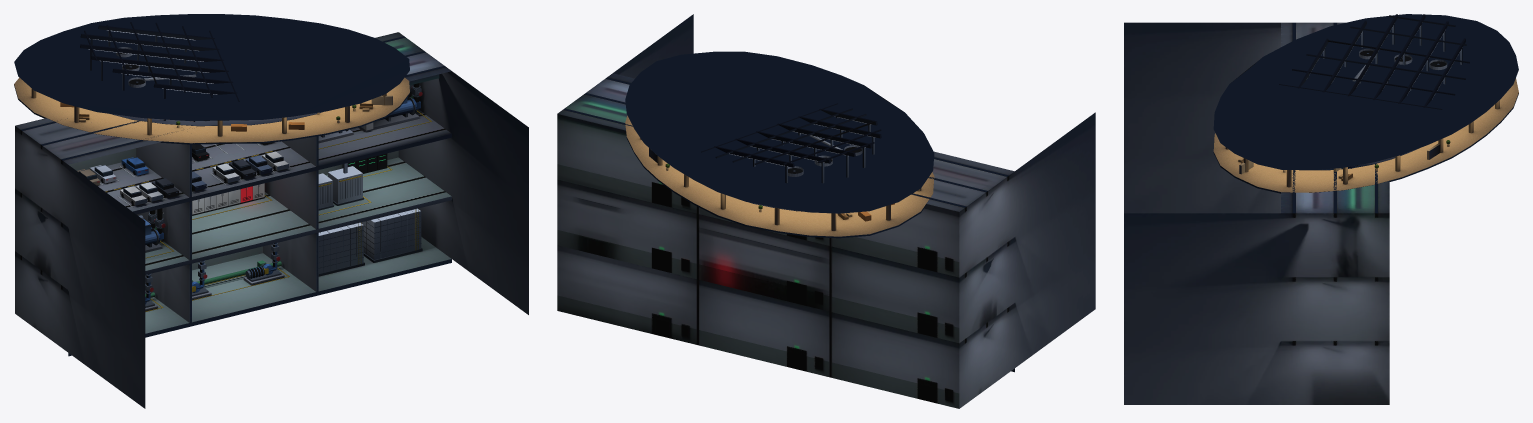
Rendered from tower_N.glb.
3 renders of one model, left to right at view 1: azimuth 30°, elevation 25°; view 2: azimuth 150°, elevation 25°; view 3: azimuth 270°, elevation 25°, orthographic. The views are drawn at different scales.
Visible parts, largest first — view 1: basement, lobby_v, basement_v, lobby, roof_v, retail_v, roof; view 2: basement, lobby_v, lobby, basement_v, roof_v, retail_v; view 3: basement, lobby_v, lobby, roof_v, retail_v, basement_v.
Boxes of the visible parts, x1,y1,x2,y2 form: basement: [15, 32, 528, 408]; lobby_v: [14, 14, 409, 144]; basement_v: [20, 36, 451, 356]; lobby: [14, 77, 409, 143]; roof_v: [80, 22, 322, 126]; retail_v: [15, 24, 392, 131]; roof: [111, 112, 321, 125]; basement: [557, 14, 1095, 408]; lobby_v: [625, 51, 934, 238]; lobby: [625, 115, 934, 236]; basement_v: [563, 77, 1014, 403]; roof_v: [701, 103, 881, 211]; retail_v: [649, 86, 913, 221]; basement: [1124, 22, 1389, 404]; lobby_v: [1213, 14, 1518, 193]; lobby: [1213, 78, 1518, 192]; roof_v: [1279, 14, 1469, 170]; retail_v: [1232, 14, 1517, 174]; basement_v: [1292, 22, 1377, 345].
Size of the model in its own units: 83.31 by 49.89 by 72.84.
13 materials, 12 textured.
